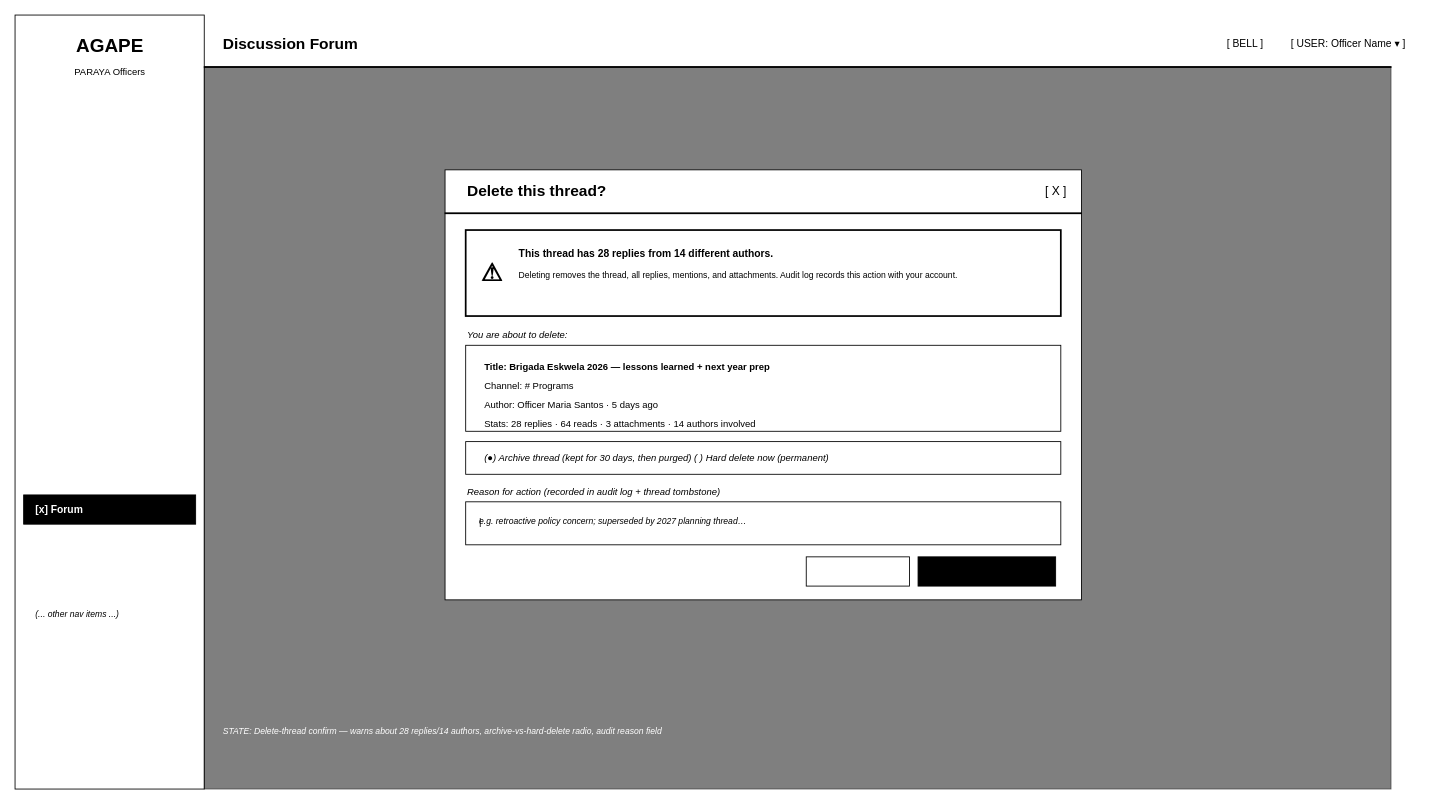
Image size: 1441x804. Some labels were removed from this diagram. The centre of each missing label's shape, as x and y in pixels:
"[ Archive thread ]" goes at point (986, 571).
"[ Cancel ]" goes at point (857, 571).
